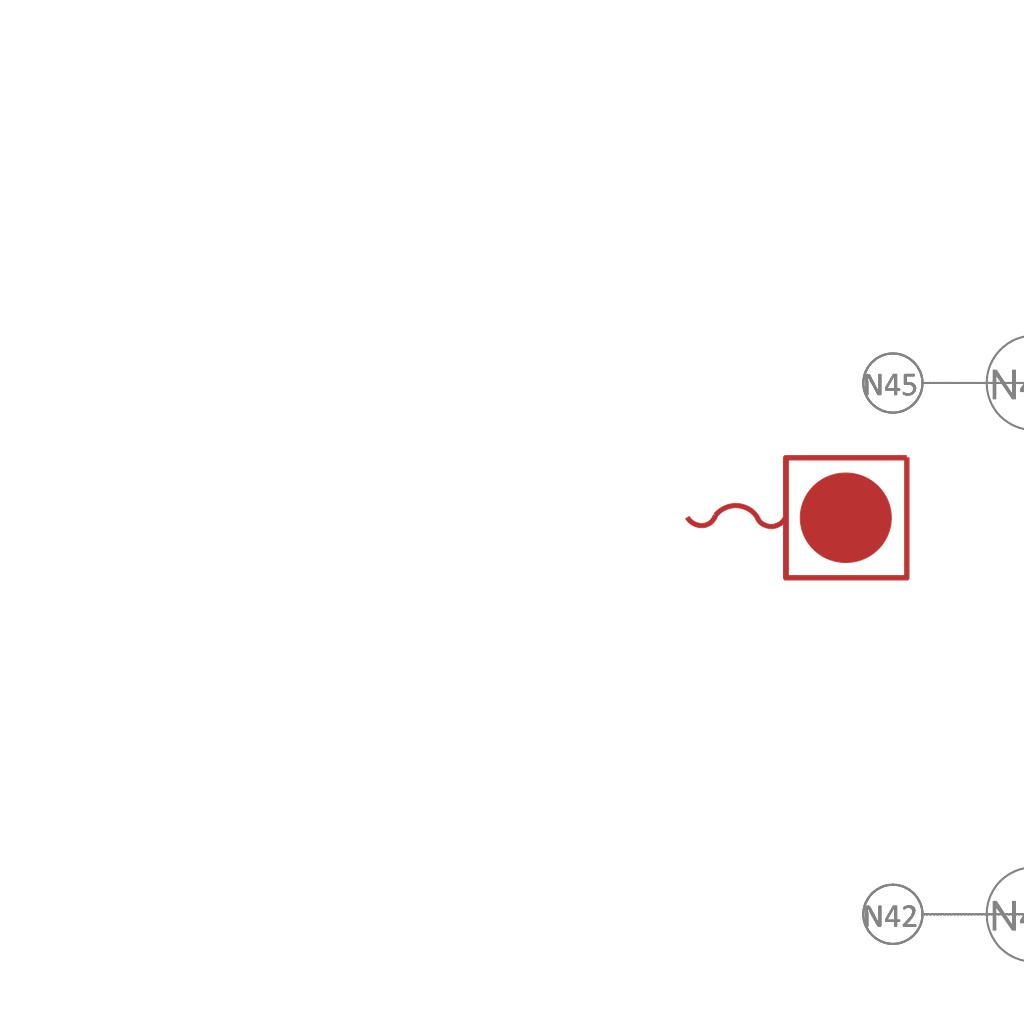Zugtaster: (674, 444, 918, 588)
